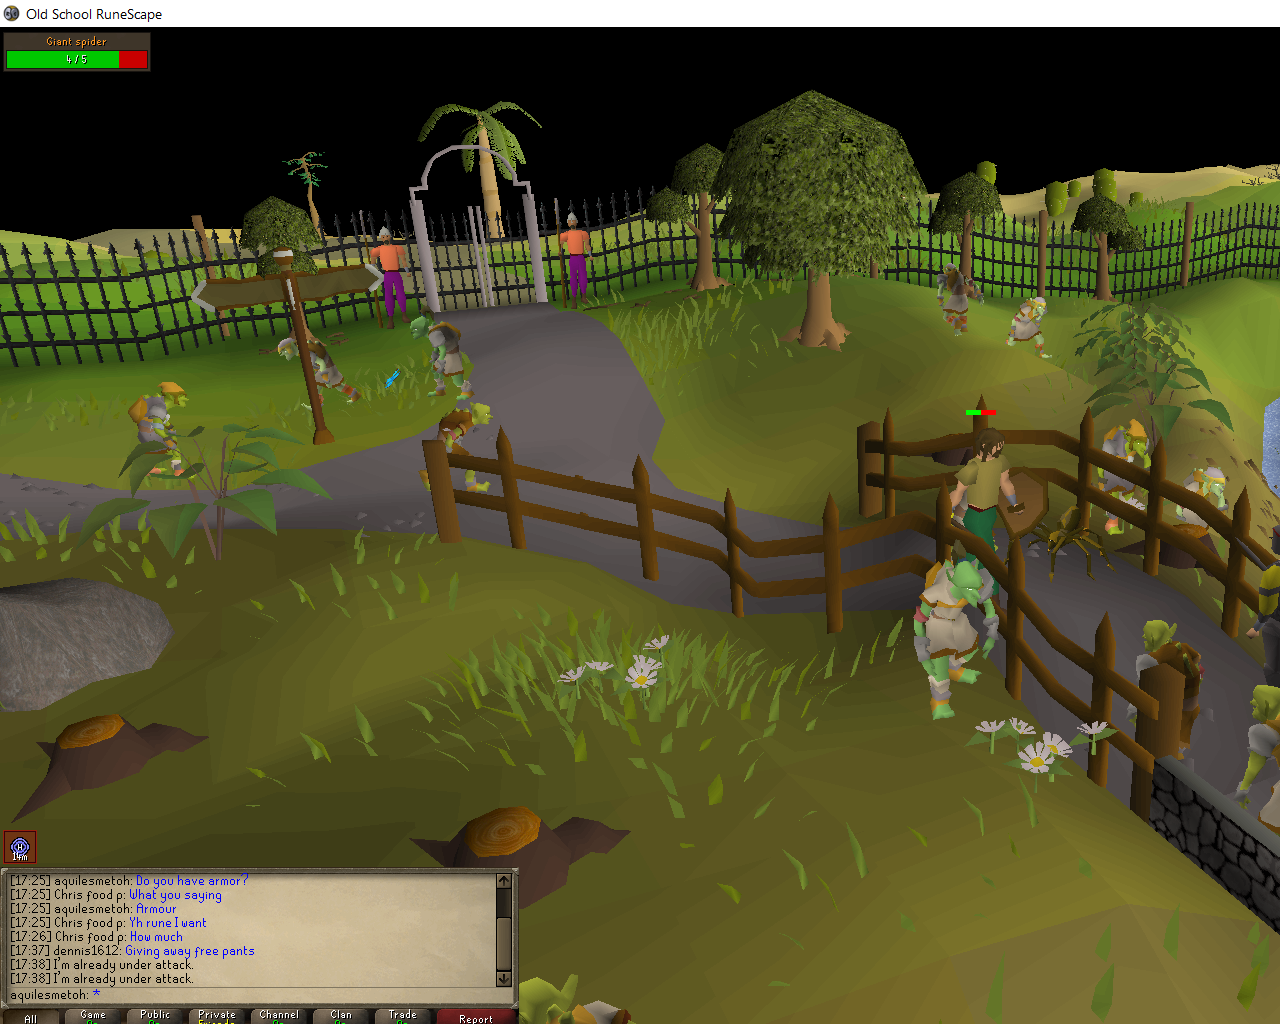Goblin: (911, 555, 1001, 722), (1124, 619, 1204, 757), (1092, 422, 1164, 537), (1232, 680, 1280, 850), (417, 402, 497, 501), (273, 333, 371, 413), (129, 383, 195, 479), (410, 313, 480, 401), (1173, 458, 1241, 536), (935, 260, 988, 338), (1006, 293, 1053, 362)
